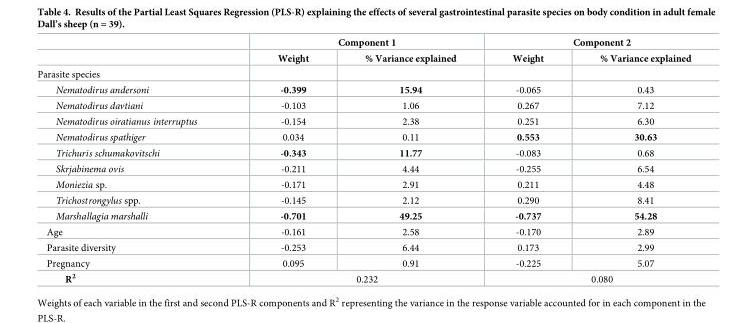table: (36, 37, 690, 284)
table column: (36, 37, 236, 284), (336, 37, 483, 284), (571, 37, 690, 284), (236, 37, 336, 284), (483, 37, 571, 284)
table column header: (36, 37, 690, 65)
table projected row header: (36, 65, 690, 80)
table row: (36, 80, 690, 97), (36, 207, 690, 224), (36, 97, 690, 113), (36, 128, 690, 144), (36, 144, 690, 160), (36, 160, 690, 176), (36, 176, 690, 192), (36, 239, 690, 255), (36, 50, 690, 65), (36, 65, 690, 80), (36, 113, 690, 128), (36, 192, 690, 207), (36, 224, 690, 239), (36, 255, 690, 270), (36, 270, 690, 284), (36, 37, 690, 50)
table spanning cell: (236, 270, 483, 284), (236, 37, 483, 50), (483, 270, 690, 284), (483, 37, 690, 50)
